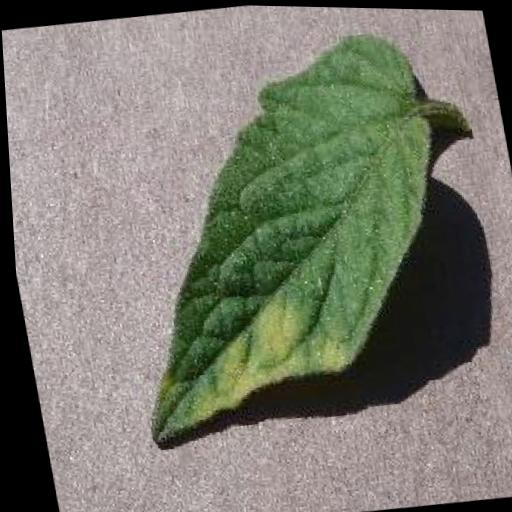Leaf Mold: (80, 19, 479, 452)
